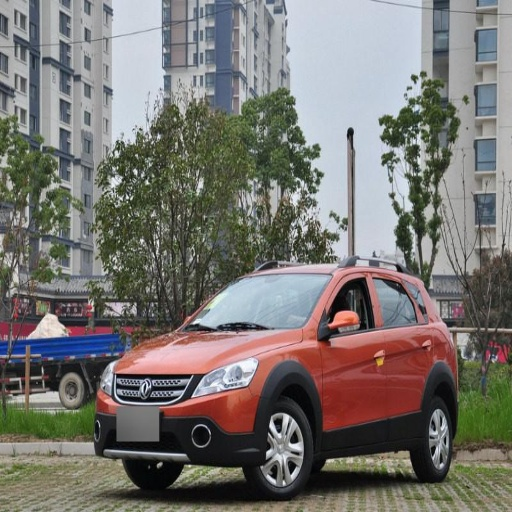front_bumper: (94, 374, 261, 465)
front_glass: (185, 273, 328, 332)
front_left_door: (320, 273, 388, 443)
